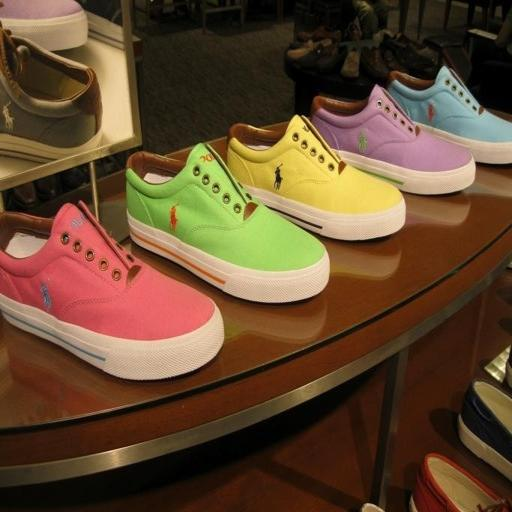shoe: (0, 202, 223, 380), (126, 144, 330, 303), (227, 115, 406, 240), (310, 84, 476, 195), (0, 28, 103, 161), (387, 66, 512, 164), (410, 453, 512, 512), (458, 379, 512, 480), (0, 0, 88, 51), (380, 36, 439, 79), (360, 46, 390, 82), (315, 44, 348, 74), (505, 262, 512, 388), (10, 181, 38, 211), (297, 25, 342, 42), (34, 174, 61, 202), (381, 47, 408, 73), (340, 47, 360, 79), (360, 503, 384, 512)
